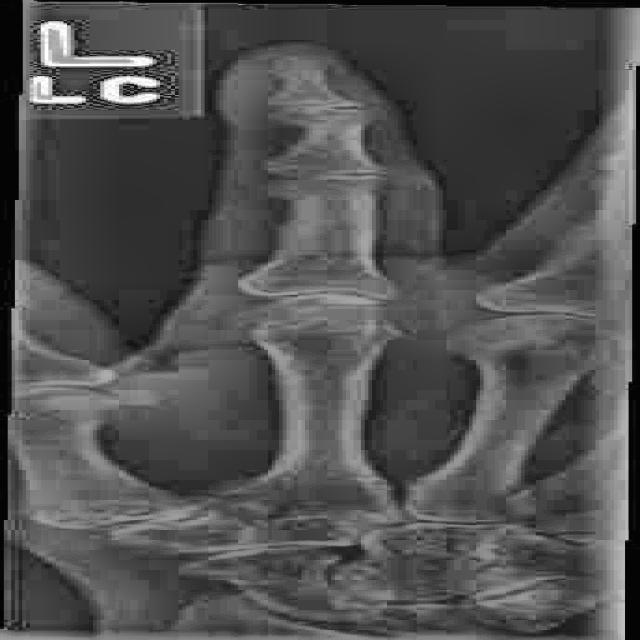fingers positive: (239, 101, 394, 149)
